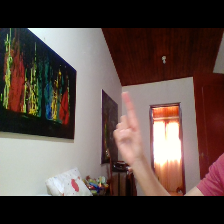2T: (106, 87, 147, 163)
